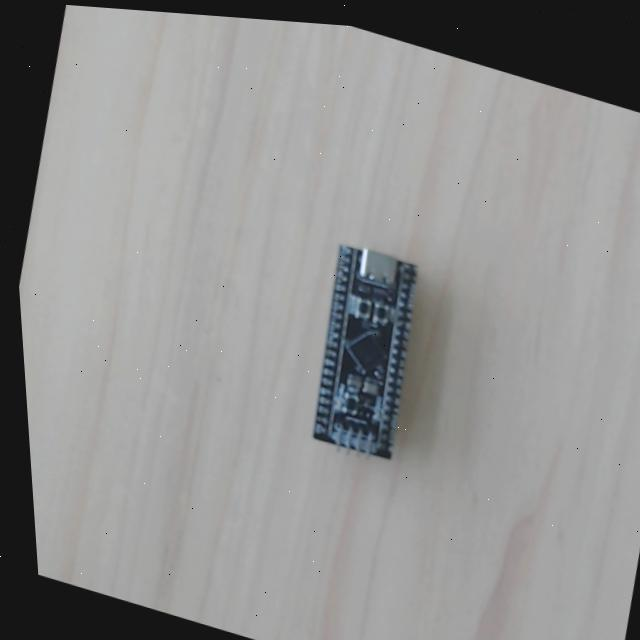STM32-Blackpill: (311, 244, 420, 457)
